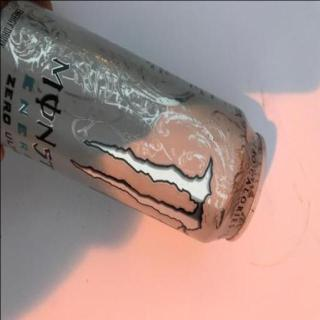Anorganik: (0, 2, 267, 250)
